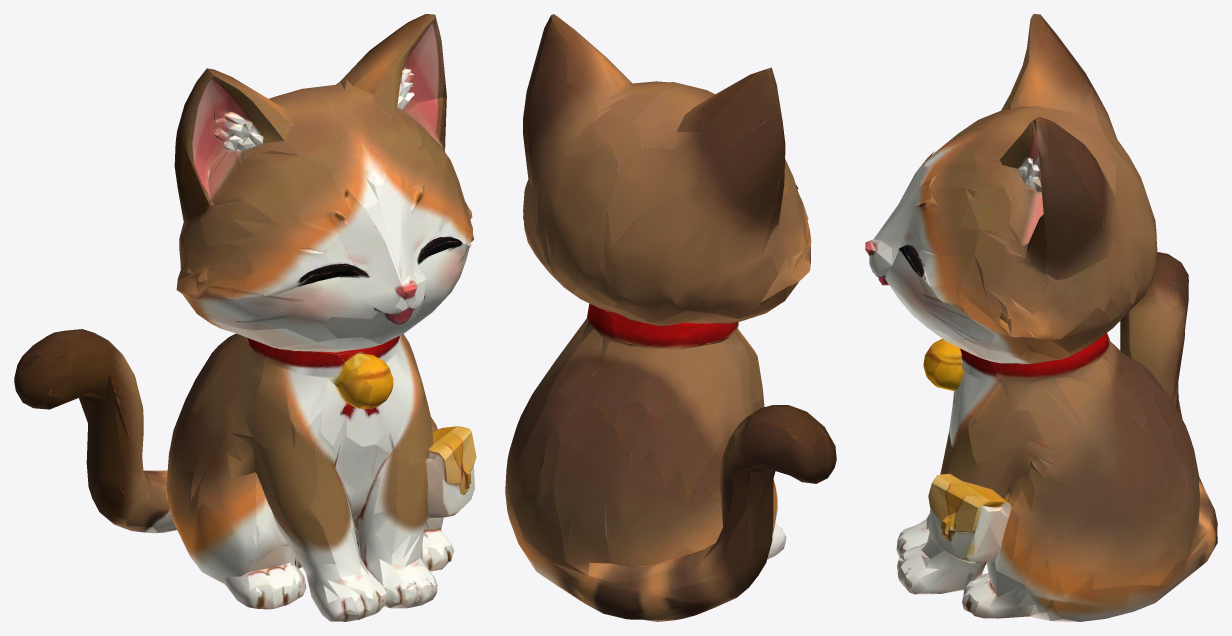
File: cat_happy.glb
The picture shows the model from 3 angles, left to right: view 1: azimuth 30°, elevation 25°; view 2: azimuth 150°, elevation 25°; view 3: azimuth 270°, elevation 25°; orthographic projection. The views are drawn at different scales.
Size of the model in its own units: 1.46 by 1.9 by 1.2.
Materials: 1 (1 with a texture image).
